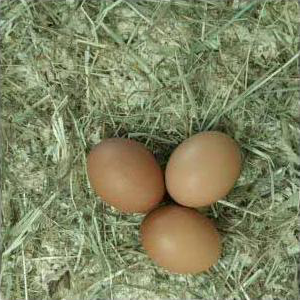egg: (165, 128, 242, 209), (88, 137, 165, 214), (140, 205, 221, 274)
